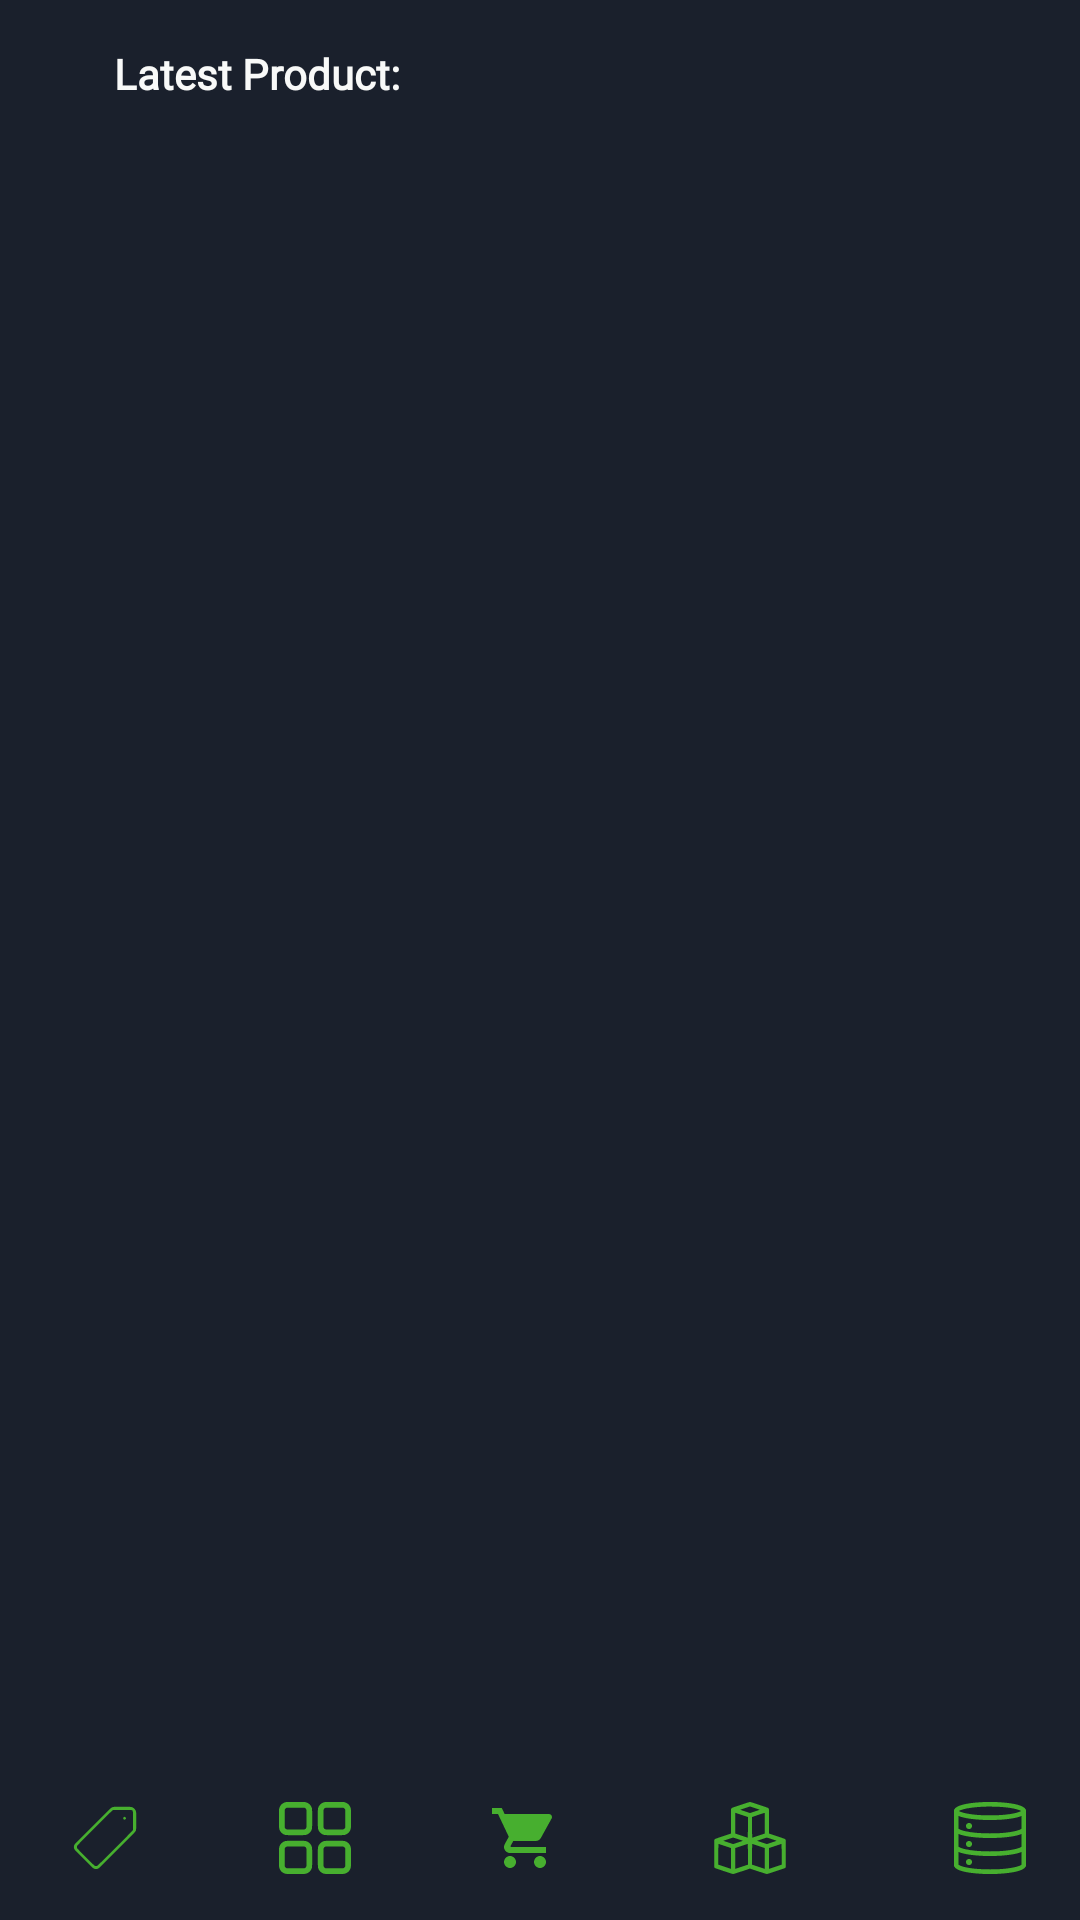

Icon bounding boxes for this 1080×1920 phone screenshot, format (x1, y1, x2, y2):
bran: (74, 1806, 137, 1869)
categor: (279, 1802, 351, 1874)
produc: (714, 1802, 786, 1874)
shopping cart: (492, 1808, 552, 1868)
